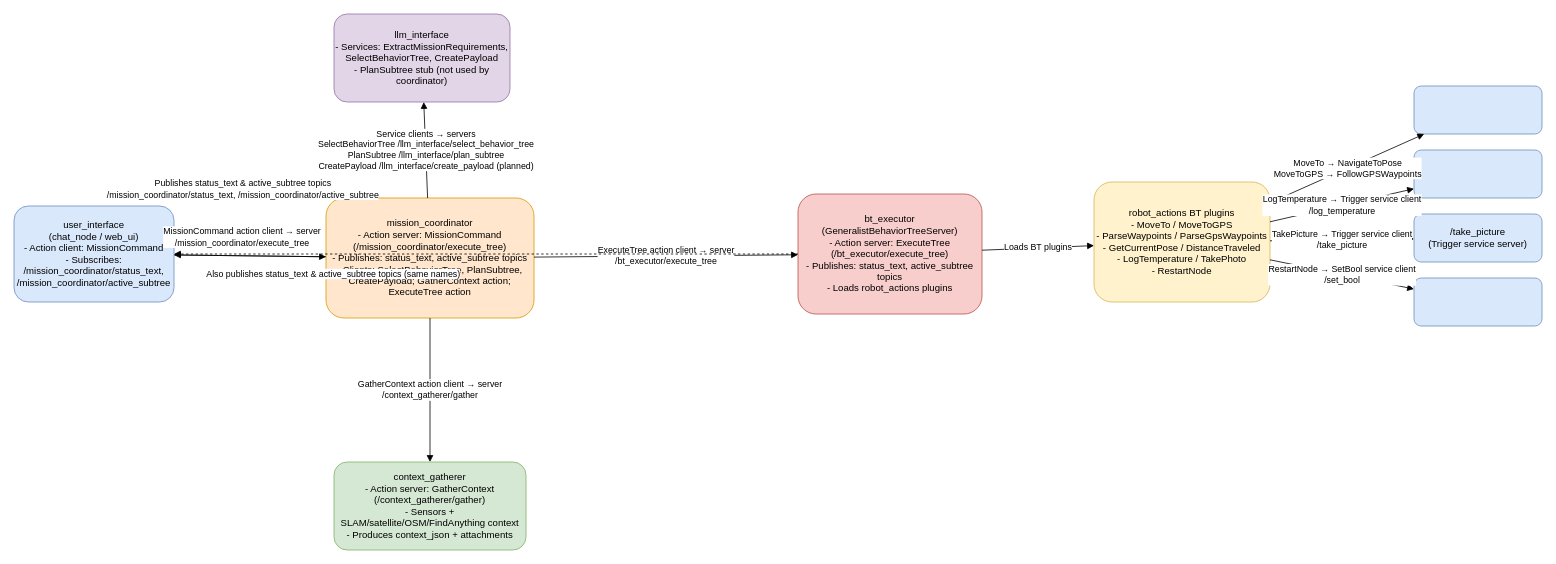
The diagram is 1556 pixels wide and 564 high, and some of its shapes have lost their labels. The centre of each missing label's shape, as x and y in pixels:
"/log_temperature (Trigger service server, dummy in generalist_bringup)" belongs at point 1477,173.
"Nav2 actions /navigate_to_pose /follow_gps_waypoints + /fromLL conversion" belongs at point 1477,109.
"Node supervisor /set_bool (SetBool service)" belongs at point 1477,301.
